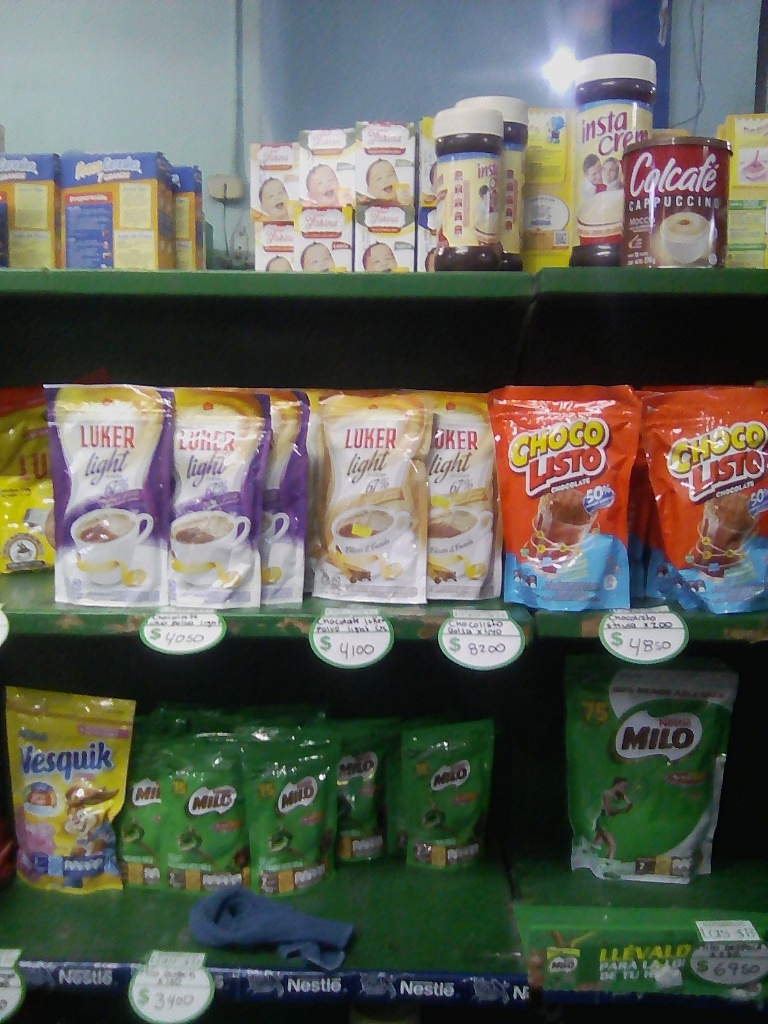COL0170104DYP20000: (636, 383, 764, 616)
COL0170203DYP10000: (401, 723, 485, 875)
COL0170305DYP20000: (0, 683, 128, 902)
